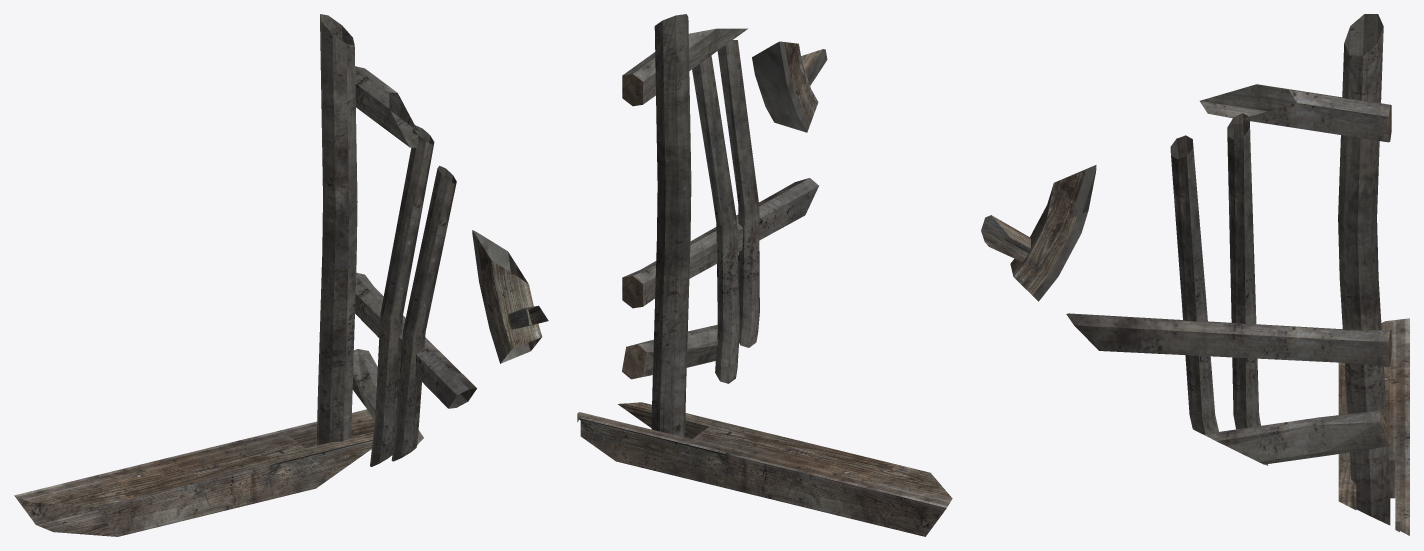
Rendered from Wagon3_20.fbx.
3 renders of one model, left to right at view 1: azimuth 30°, elevation 25°; view 2: azimuth 150°, elevation 25°; view 3: azimuth 270°, elevation 25°, orthographic. The views are drawn at different scales.
Parts seen in each view (by area): view 1: SM_Wagon03_DM.020; view 2: SM_Wagon03_DM.020; view 3: SM_Wagon03_DM.020.
Boxes of the visible parts, <box> form: SM_Wagon03_DM.020: <box>14,14,548,536</box>; SM_Wagon03_DM.020: <box>577,14,952,536</box>; SM_Wagon03_DM.020: <box>981,14,1409,535</box>.
Bounding box in the file's own units: 9503 × 11087 × 8478.
